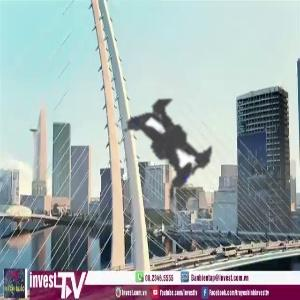drone: (60, 29, 279, 248)
